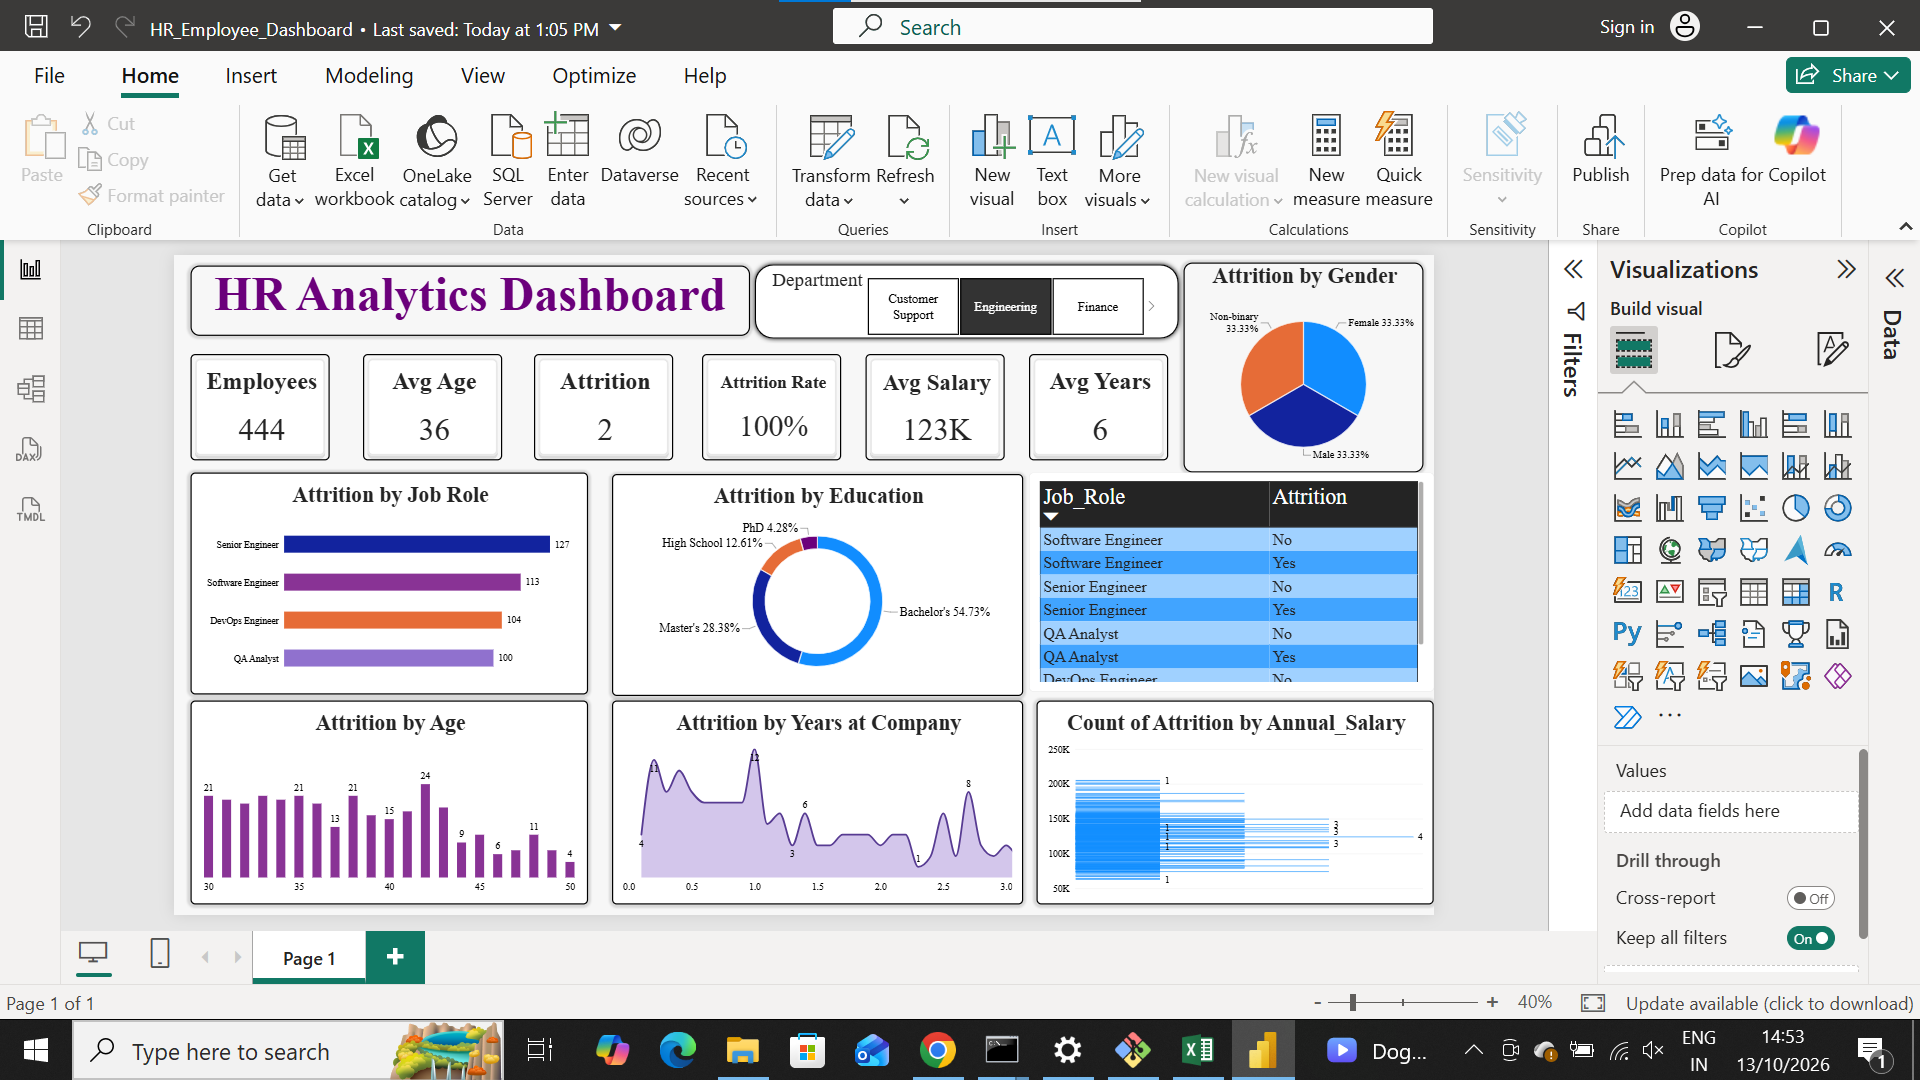

This screenshot's page, from the dashboard's own definition file:
{"tool":"powerbi","page":{"name":"Page 1","canvas":[2100,1100],"ordinal":0},"visuals":[{"type":"shape","box":[960,7.5,722.5,140],"z":0},{"type":"textbox","box":[27.5,17.5,932.5,117.5],"z":1000},{"type":"slicer","fields":{"Values":["hr_employee_dashboard_dataset.Department"]},"box":[1135,22.5,500,112.5],"z":2000},{"type":"pieChart","title":"Attrition by Gender","fields":{"Category":["hr_employee_dashboard_dataset.Gender"],"Y":["Count(hr_employee_dashboard_dataset.Attrition)"]},"box":[1682.5,12.5,400,350],"z":3000},{"type":"cardVisual","fields":{"Data":["Count(hr_employee_dashboard_dataset.Employee_ID)"]},"box":[27.5,165,232.5,177.5],"z":4000},{"type":"cardVisual","fields":{"Data":["Avg(hr_employee_dashboard_dataset.Age)"]},"box":[315,165,232.5,177.5],"z":5000},{"type":"cardVisual","fields":{"Data":["Count(hr_employee_dashboard_dataset.Attrition)"]},"box":[600,165,232.5,177.5],"z":6000},{"type":"cardVisual","fields":{"Data":["Min(hr_employee_dashboard_dataset.Attrition)"]},"box":[880,165,232.5,177.5],"z":7000},{"type":"cardVisual","fields":{"Data":["Avg(hr_employee_dashboard_dataset.Annual_Salary)"]},"box":[1152.5,165,232.5,177.5],"z":8000},{"type":"cardVisual","fields":{"Data":["Avg(hr_employee_dashboard_dataset.Tenure_Years)"]},"box":[1425,165,232.5,177.5],"z":9000},{"type":"clusteredBarChart","title":"Attrition by Job Role","fields":{"Category":["hr_employee_dashboard_dataset.Job_Role"],"Y":["CountNonNull(hr_employee_dashboard_dataset.Attrition)"]},"box":[27.5,362.5,662.5,370],"z":10000,"group":"g1"},{"type":"textbox","box":[992.5,22.5,160,50],"z":11000},{"type":"donutChart","title":"Attrition by Education","fields":{"Category":["hr_employee_dashboard_dataset.Education"],"Y":["CountNonNull(hr_employee_dashboard_dataset.Attrition)"]},"box":[730,365,685,370],"z":11001,"group":"g1"},{"type":"tableEx","fields":{"Values":["hr_employee_dashboard_dataset.Job_Role","hr_employee_dashboard_dataset.Attrition"]},"box":[1425,362.5,675,365],"z":11002,"group":"g1"},{"type":"clusteredColumnChart","title":"Attrition by Age","fields":{"Category":["hr_employee_dashboard_dataset.Age"],"Y":["CountNonNull(hr_employee_dashboard_dataset.Attrition)"]},"box":[27.5,742.5,662.5,340],"z":11003,"group":"g1"},{"type":"lineChart","title":"Attrition by Years at Company","fields":{"Category":["hr_employee_dashboard_dataset.Tenure_Years"],"Y":["CountNonNull(hr_employee_dashboard_dataset.Attrition)"]},"box":[730,743,685,340],"z":11004,"group":"g1"},{"type":"clusteredBarChart","fields":{"Category":["hr_employee_dashboard_dataset.Annual_Salary"],"Y":["CountNonNull(hr_employee_dashboard_dataset.Attrition)"]},"box":[1438,743,662,340],"z":11005,"group":"g1"},{"type":"group","id":"g1","title":"Group 1","box":[27.5,362.5,2072.5,720.5],"z":11006}]}

Visuals, with their boxes on the page's 2100x1100 design canvas (x1, y1, x2, y2). These are canvas units, not pixel positions in the 1920x1080 screenshot, which may show the page scaled, cropped or inside an application window:
shape: 960,8,1682,148
textbox: 28,18,960,135
slicer - hr_employee_dashboard_dataset.Department: 1135,22,1635,135
"Attrition by Gender" pieChart: 1682,12,2082,362
cardVisual - Count(hr_employee_dashboard_dataset.Employee_ID): 28,165,260,342
cardVisual - Avg(hr_employee_dashboard_dataset.Age): 315,165,548,342
cardVisual - Count(hr_employee_dashboard_dataset.Attrition): 600,165,832,342
cardVisual - Min(hr_employee_dashboard_dataset.Attrition): 880,165,1112,342
cardVisual - Avg(hr_employee_dashboard_dataset.Annual_Salary): 1152,165,1385,342
cardVisual - Avg(hr_employee_dashboard_dataset.Tenure_Years): 1425,165,1658,342
"Attrition by Job Role" clusteredBarChart: 28,362,690,732
textbox: 992,22,1152,72
"Attrition by Education" donutChart: 730,365,1415,735
tableEx - hr_employee_dashboard_dataset.Job_Role x hr_employee_dashboard_dataset.Attrition: 1425,362,2100,728
"Attrition by Age" clusteredColumnChart: 28,742,690,1082
"Attrition by Years at Company" lineChart: 730,743,1415,1083
clusteredBarChart - hr_employee_dashboard_dataset.Annual_Salary x CountNonNull(hr_employee_dashboard_dataset.Attrition): 1438,743,2100,1083
"Group 1" group: 28,362,2100,1083
